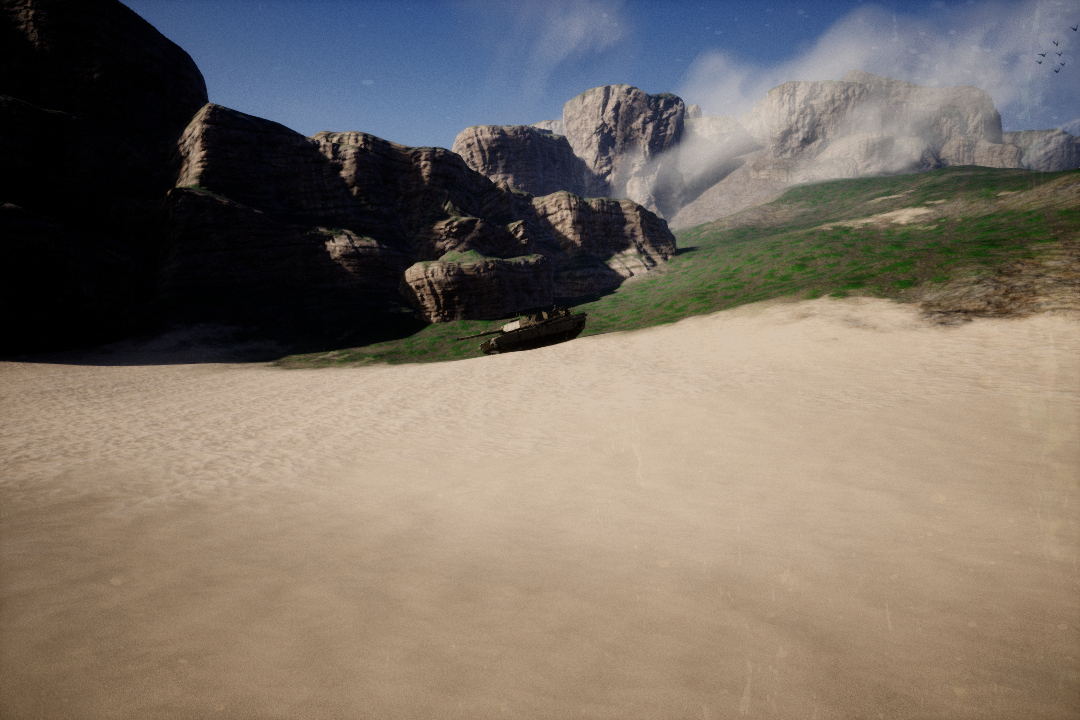tank: (456, 311, 591, 351)
